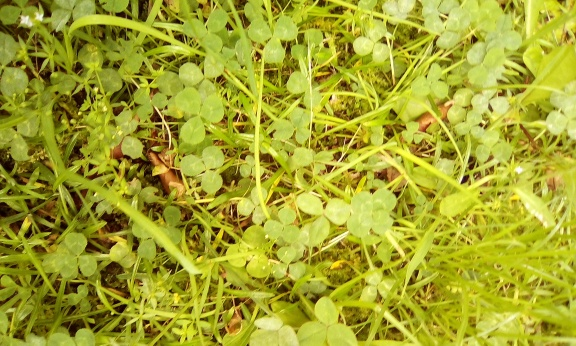4leaf: (347, 188, 397, 237)
